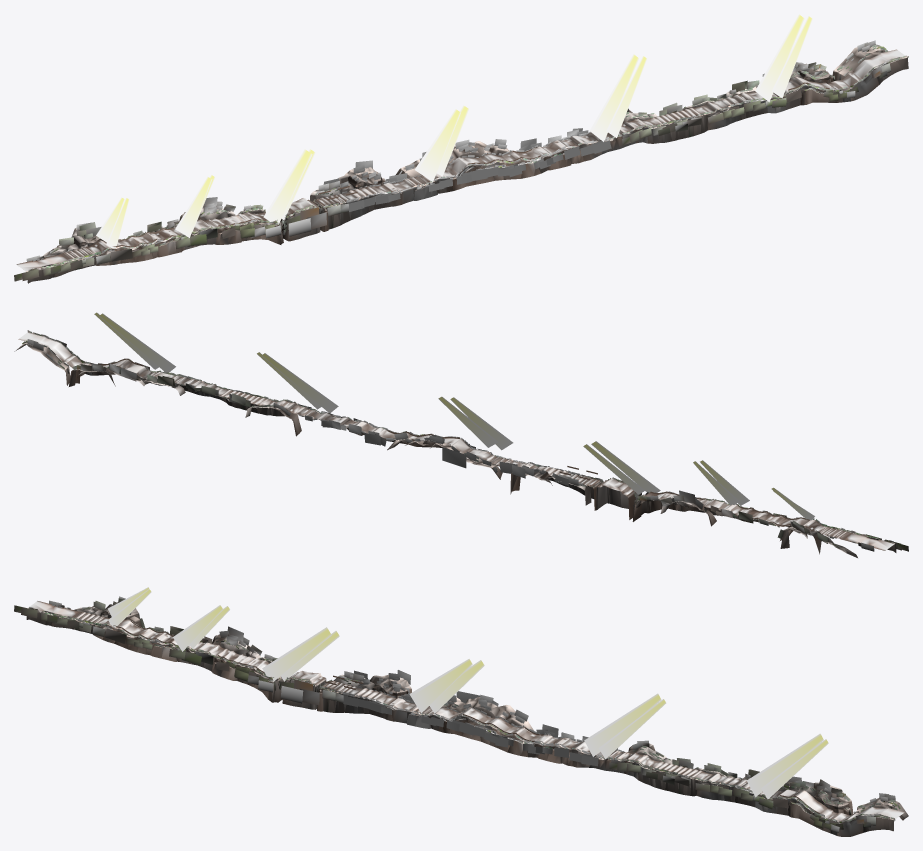
File: Forest_11.fbx
3 views of the same model, one above another, from view 1: azimuth 30°, elevation 25°; view 2: azimuth 150°, elevation 25°; view 3: azimuth 330°, elevation 25° (orthographic).
Visible parts, largest first — view 1: Tree_01, Mountain_01, Light_01, Ground_01, Leak_01; view 2: Tree_01, Ground_01, Mountain_01, Light_01, Leak_01; view 3: Tree_01, Mountain_01, Light_01, Ground_01, Leak_01.
Part boxes in pixels (<box>): Tree_01: <box>14,40,908,281</box>; Mountain_01: <box>26,45,908,283</box>; Light_01: <box>96,14,812,248</box>; Ground_01: <box>16,49,904,271</box>; Leak_01: <box>113,82,831,247</box>; Tree_01: <box>22,330,908,551</box>; Ground_01: <box>18,332,894,550</box>; Mountain_01: <box>14,332,896,557</box>; Light_01: <box>94,312,814,520</box>; Leak_01: <box>98,358,809,526</box>; Tree_01: <box>14,596,900,832</box>; Mountain_01: <box>26,602,908,836</box>; Light_01: <box>108,587,828,798</box>; Ground_01: <box>29,601,904,821</box>; Leak_01: <box>113,620,820,813</box>.
Size of the model in its own units: 76703 by 7076 by 4106.
